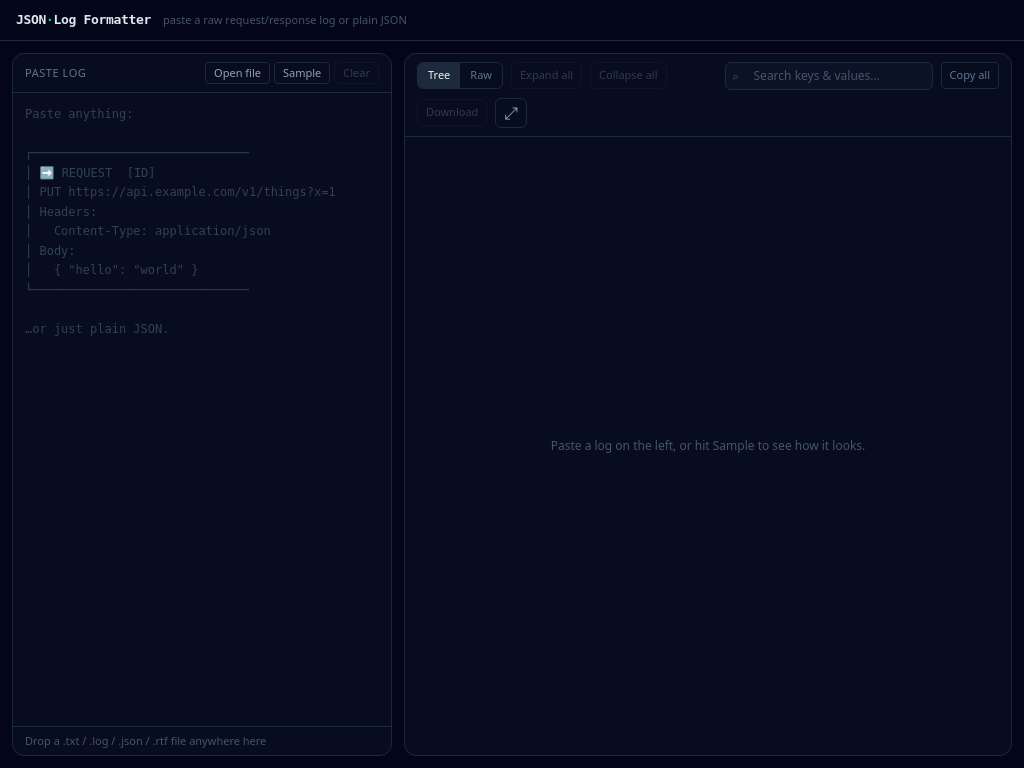
it: full-screen reading mode › comes back on Escape
Step 1. Click the button named "Full screen" → x=511, y=112, box [495,98,527,128]
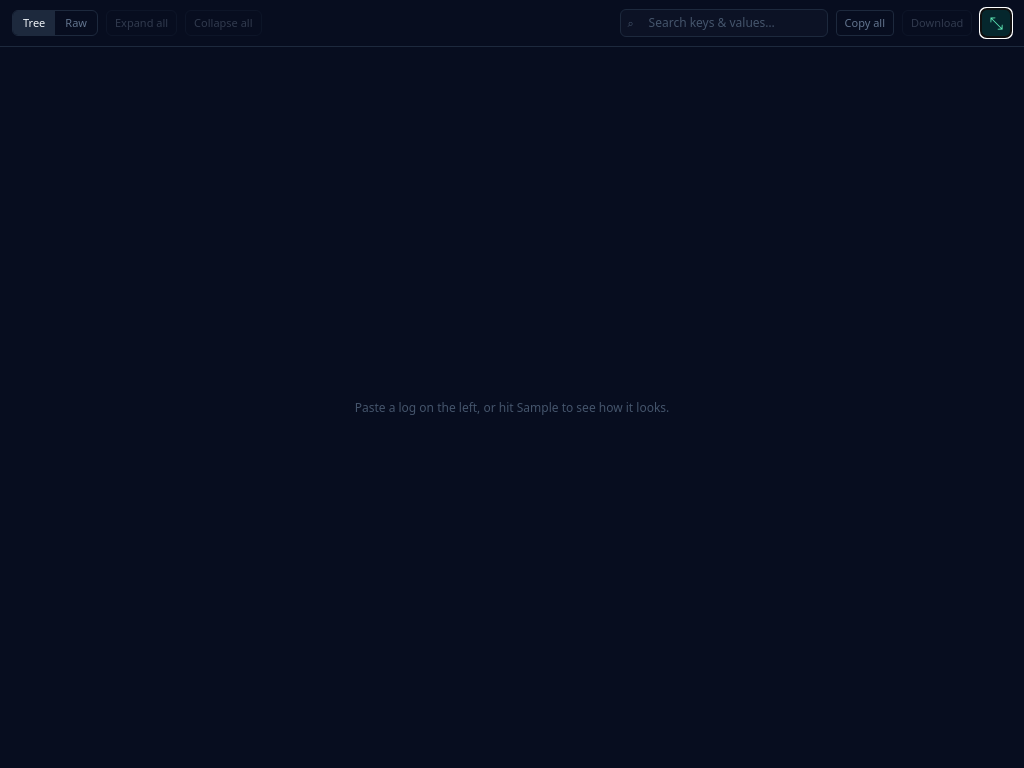
expect the text box is gone: met
Step 2. Press Escape
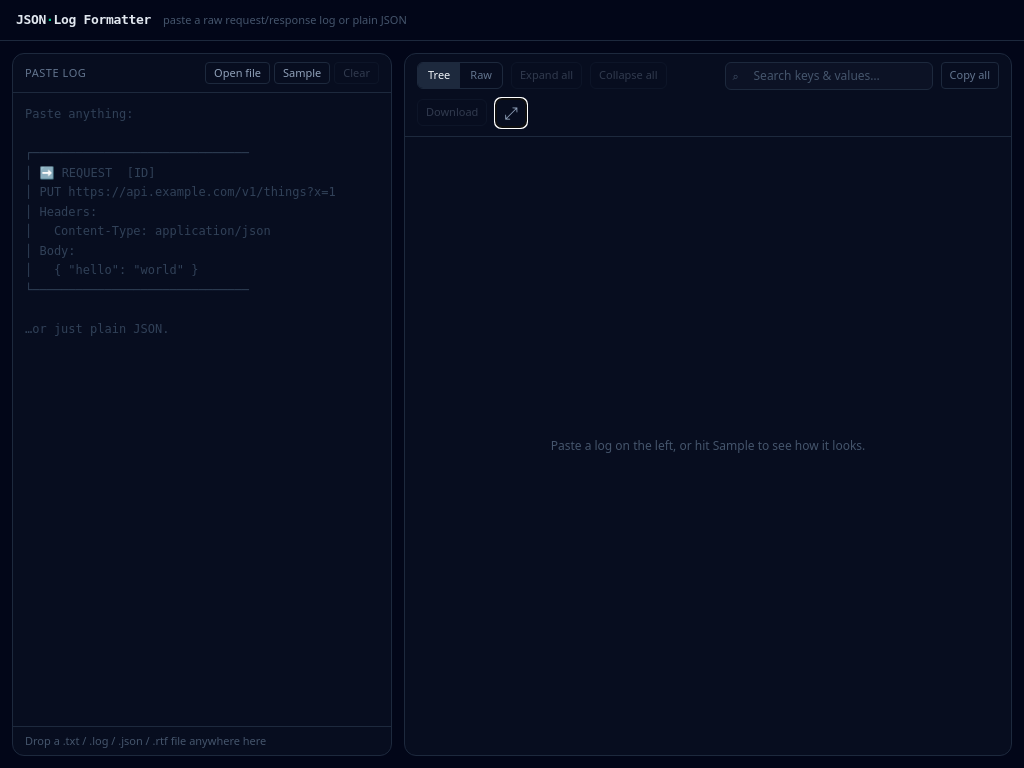
expect the text box is shown: met, box [13,93,391,726]
expect the heading "JSON·Log Formatter" is shown: met, box [16,10,151,30]
